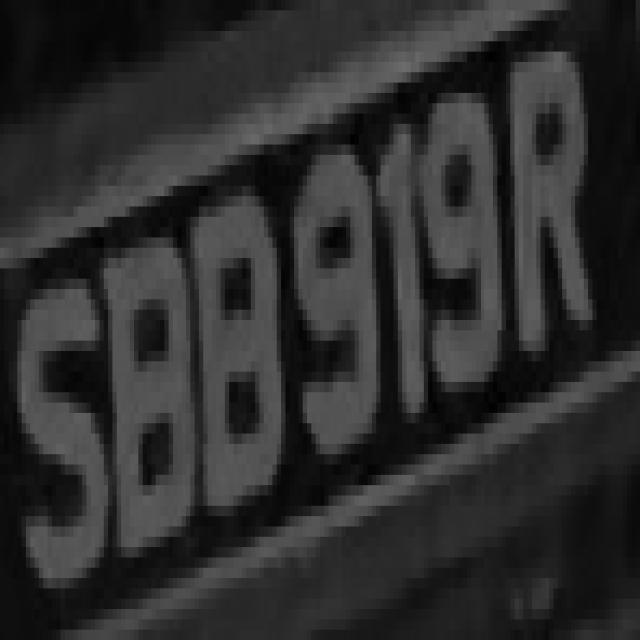1: (372, 83, 424, 454)
9: (286, 113, 380, 496), (415, 72, 502, 413)
B: (86, 217, 199, 588), (177, 186, 281, 547)
R: (502, 31, 592, 403)
S: (4, 238, 117, 620)
